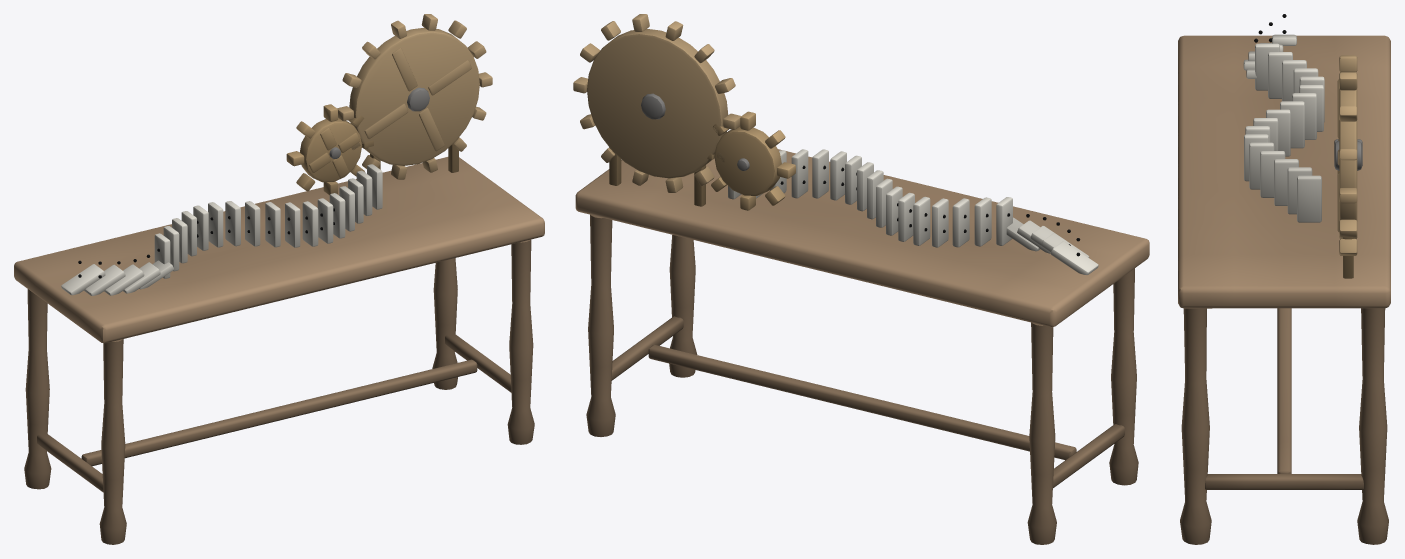
File: obj_kit_mover.glb
The picture shows the model from 3 angles, left to right: view 1: azimuth 30°, elevation 25°; view 2: azimuth 150°, elevation 25°; view 3: azimuth 270°, elevation 25°; orthographic projection. The views are drawn at different scales.
Visible parts, largest first — view 1: Cube, Cylinder, Cube.001, leg, leg.002, leg.001, leg.003, Cylinder.002, Cube.002, Cube.003, Cube.004, Cube.019 (+6 smaller); view 2: Cube, Cylinder, Cube.001, leg.001, leg.003, leg, Cylinder.002, leg.002, Cube.002, Cube.003, Cube.004, Cube.010 (+8 smaller); view 3: Cube, leg.003, leg.002, Cube.003, Cube.001, Cylinder, Cube.025, Cube.016, Cube.022, Cube.023, Cube.010, Cube.009 (+18 smaller).
Boxes of the visible parts, x1=… form: Cube: x1=14, y1=157, x2=544, y2=343; Cylinder: x1=349, y1=27, x2=479, y2=165; Cube.001: x1=81, y1=359, x2=477, y2=466; leg: x1=99, y1=339, x2=126, y2=544; leg.002: x1=507, y1=239, x2=534, y2=444; leg.001: x1=24, y1=289, x2=51, y2=489; leg.003: x1=432, y1=258, x2=457, y2=389; Cylinder.002: x1=299, y1=118, x2=362, y2=182; Cube.002: x1=37, y1=433, x2=103, y2=492; Cube.003: x1=445, y1=333, x2=511, y2=392; Cube.004: x1=61, y1=264, x2=105, y2=295; Cube.019: x1=302, y1=201, x2=318, y2=246; Cube: x1=575, y1=149, x2=1149, y2=327; Cylinder: x1=587, y1=29, x2=728, y2=178; Cube.001: x1=648, y1=345, x2=1076, y2=460; leg.001: x1=1027, y1=322, x2=1056, y2=544; leg.003: x1=586, y1=214, x2=615, y2=436; leg: x1=1109, y1=268, x2=1138, y2=485; Cylinder.002: x1=714, y1=126, x2=781, y2=195; leg.002: x1=669, y1=235, x2=697, y2=377; Cube.002: x1=1053, y1=424, x2=1124, y2=487; Cube.003: x1=611, y1=316, x2=683, y2=380; Cube.004: x1=1050, y1=241, x2=1098, y2=274; Cube.010: x1=974, y1=197, x2=991, y2=246; Cube: x1=1178, y1=35, x2=1390, y2=308; leg.003: x1=1357, y1=308, x2=1388, y2=544; leg.002: x1=1180, y1=308, x2=1211, y2=544; Cube.003: x1=1205, y1=474, x2=1363, y2=489; Cube.001: x1=1277, y1=308, x2=1291, y2=473; Cylinder: x1=1339, y1=72, x2=1357, y2=238; Cube.025: x1=1297, y1=175, x2=1321, y2=222; Cube.016: x1=1280, y1=101, x2=1304, y2=148; Cube.022: x1=1260, y1=151, x2=1285, y2=197; Cube.023: x1=1274, y1=159, x2=1298, y2=205; Cube.010: x1=1268, y1=52, x2=1292, y2=98; Cube.009: x1=1255, y1=43, x2=1279, y2=90.
Bounding box in the file's own units: 1.76 × 1.4 × 0.6.
